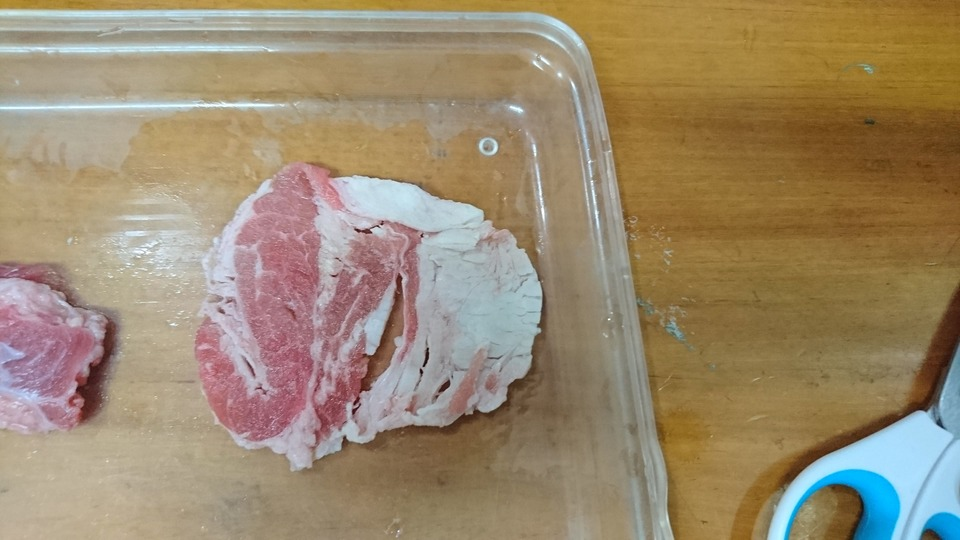restructured meat: (190, 160, 541, 471)
